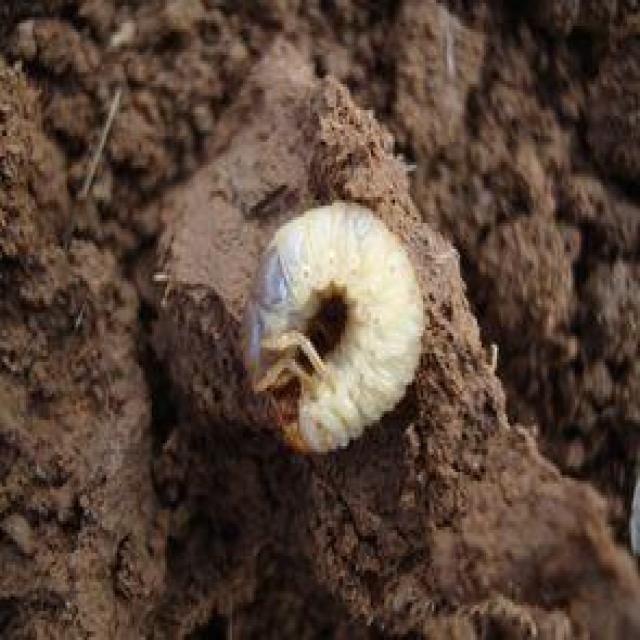Grub-Adult-: (241, 189, 441, 455)
